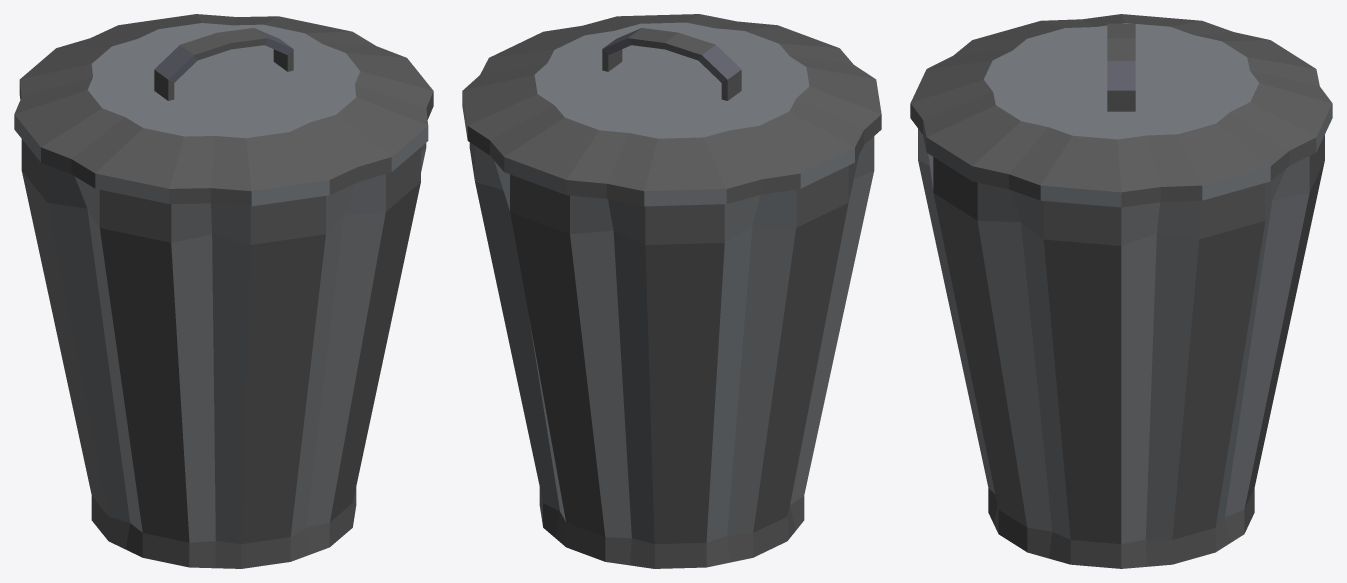
The model's file is garbageContainer.fbx.
3 renders of one model, left to right at view 1: azimuth 30°, elevation 25°; view 2: azimuth 150°, elevation 25°; view 3: azimuth 270°, elevation 25°, orthographic.
Visible parts, largest first — view 1: Cylinder.027; view 2: Cylinder.027; view 3: Cylinder.027.
Part boxes in pixels (x1,y1,x2,y2): Cylinder.027: (14, 14, 433, 568); Cylinder.027: (462, 14, 881, 568); Cylinder.027: (910, 14, 1332, 568).
Size of the model in its own units: 98.98 by 123 by 98.98.
